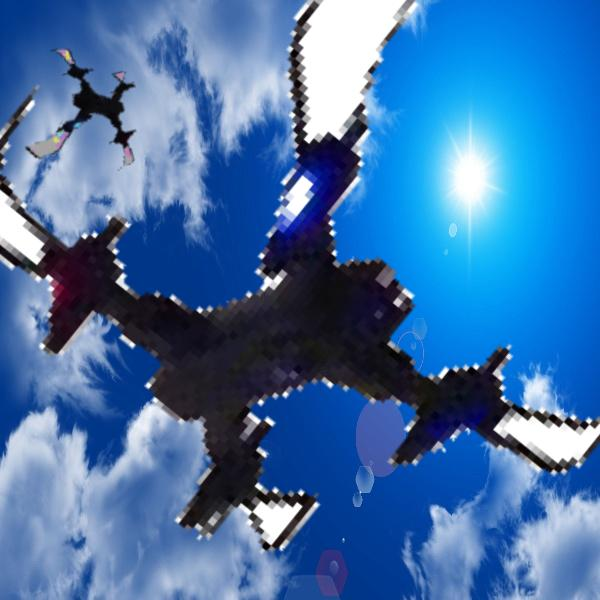drone: (3, 40, 149, 186)
